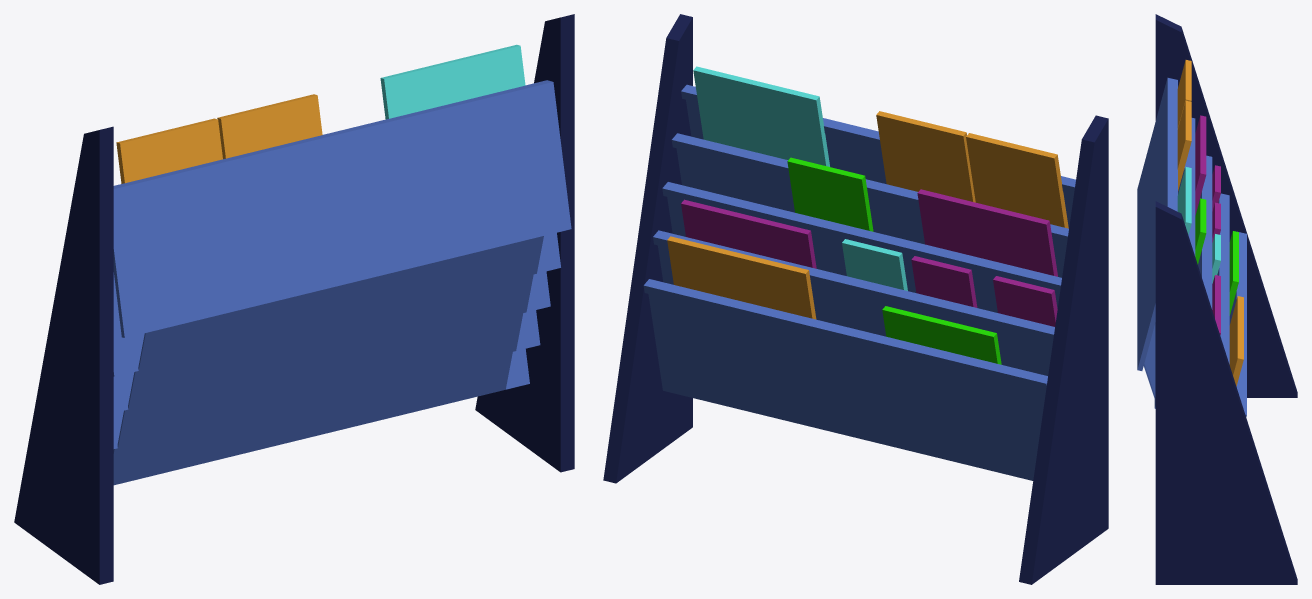
Rendered from SM_Bookshelf.fbx.
The picture shows the model from 3 angles, left to right: view 1: azimuth 30°, elevation 25°; view 2: azimuth 150°, elevation 25°; view 3: azimuth 270°, elevation 25°; orthographic projection. The views are drawn at different scales.
Parts seen in each view (by area): view 1: SM_Bookshelf; view 2: SM_Bookshelf; view 3: SM_Bookshelf.
Part boxes in pixels (x1,y1,x2,y2): SM_Bookshelf: (14,14,574,584); SM_Bookshelf: (603,14,1108,584); SM_Bookshelf: (1137,14,1297,584).
Bounding box in the file's own units: 493 × 451 × 173.
